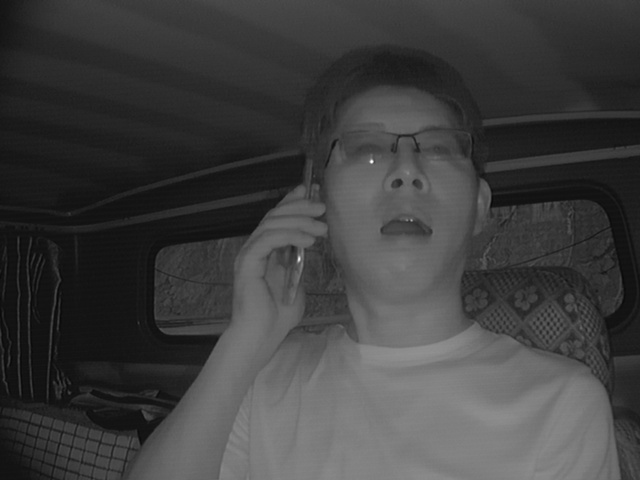hand: (225, 186, 324, 332)
